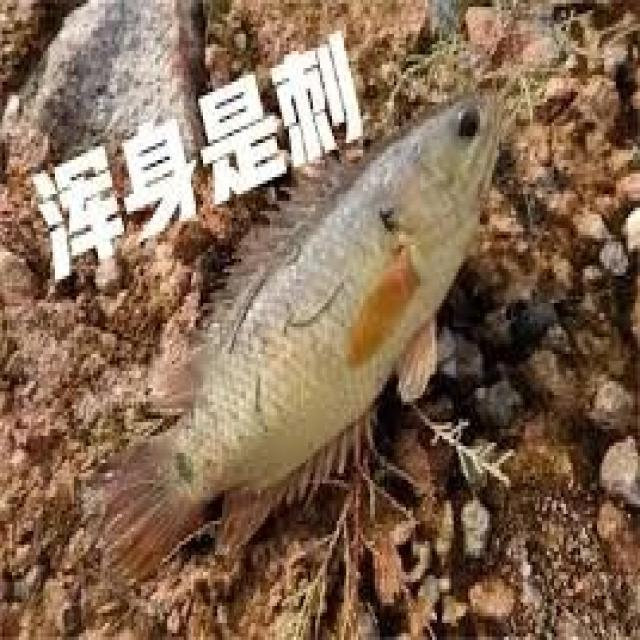Climbing-Perch: (67, 47, 557, 584)
